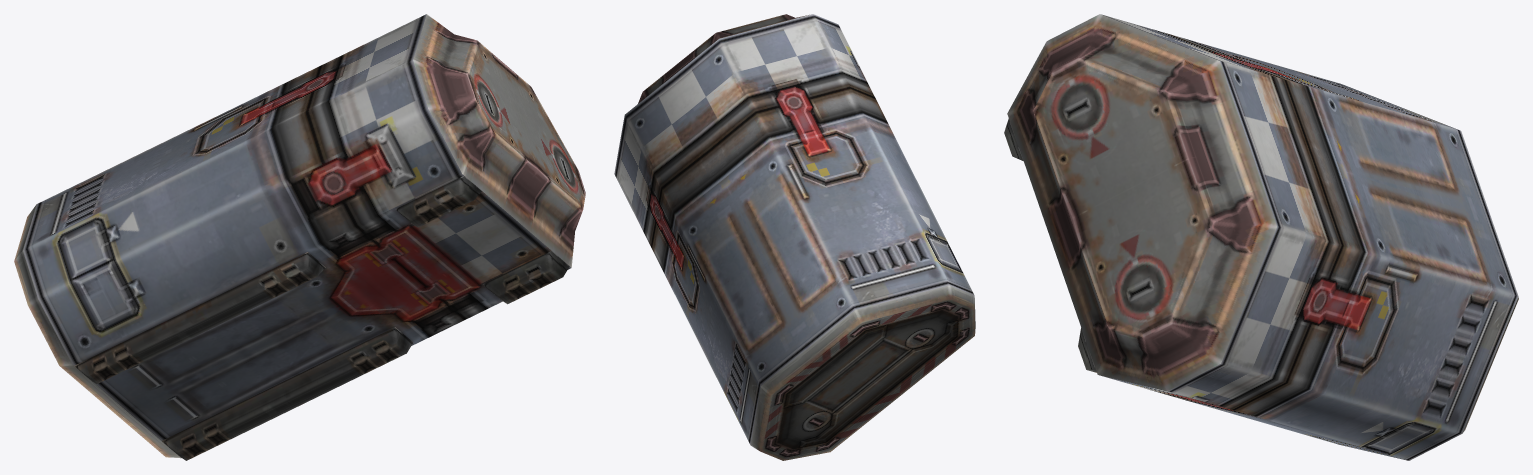
File: hgn_collectable_loot_07.glb
The picture shows the model from 3 angles, left to right: view 1: azimuth 30°, elevation 25°; view 2: azimuth 150°, elevation 25°; view 3: azimuth 270°, elevation 25°; orthographic projection. The views are drawn at different scales.
Visible parts, largest first — view 1: loot_container_04_a; view 2: loot_container_04_a; view 3: loot_container_04_a.
Boxes of the visible parts, <box> form: loot_container_04_a: <box>14,14,585,460</box>; loot_container_04_a: <box>614,14,975,460</box>; loot_container_04_a: <box>1004,14,1518,460</box>.
Bounding box in the file's own units: 1.15 × 0.9844 × 0.9188.
1 material, 1 textured.
